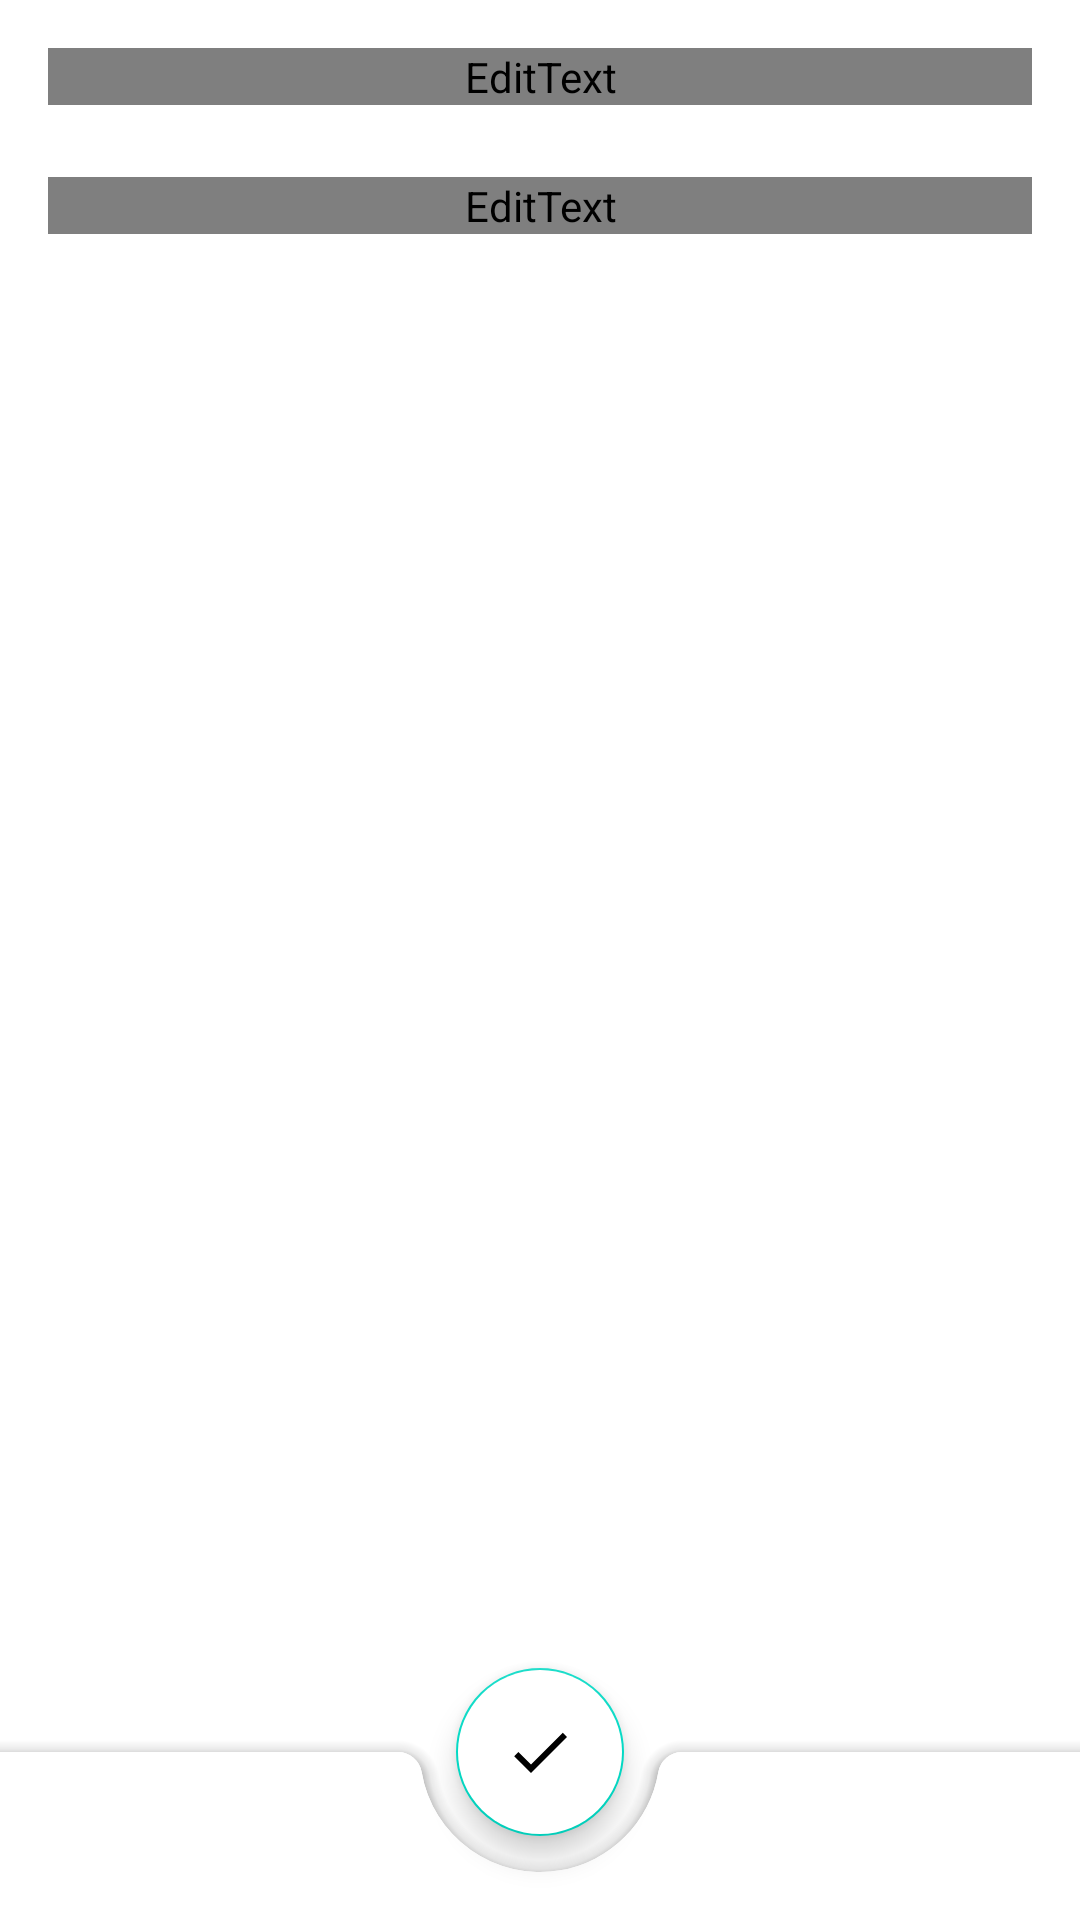

Named icons in this screenshot (1080 x 1920) and their bounding boxes, (x1, y1, x2, y2):
done: (456, 1668, 624, 1836)
